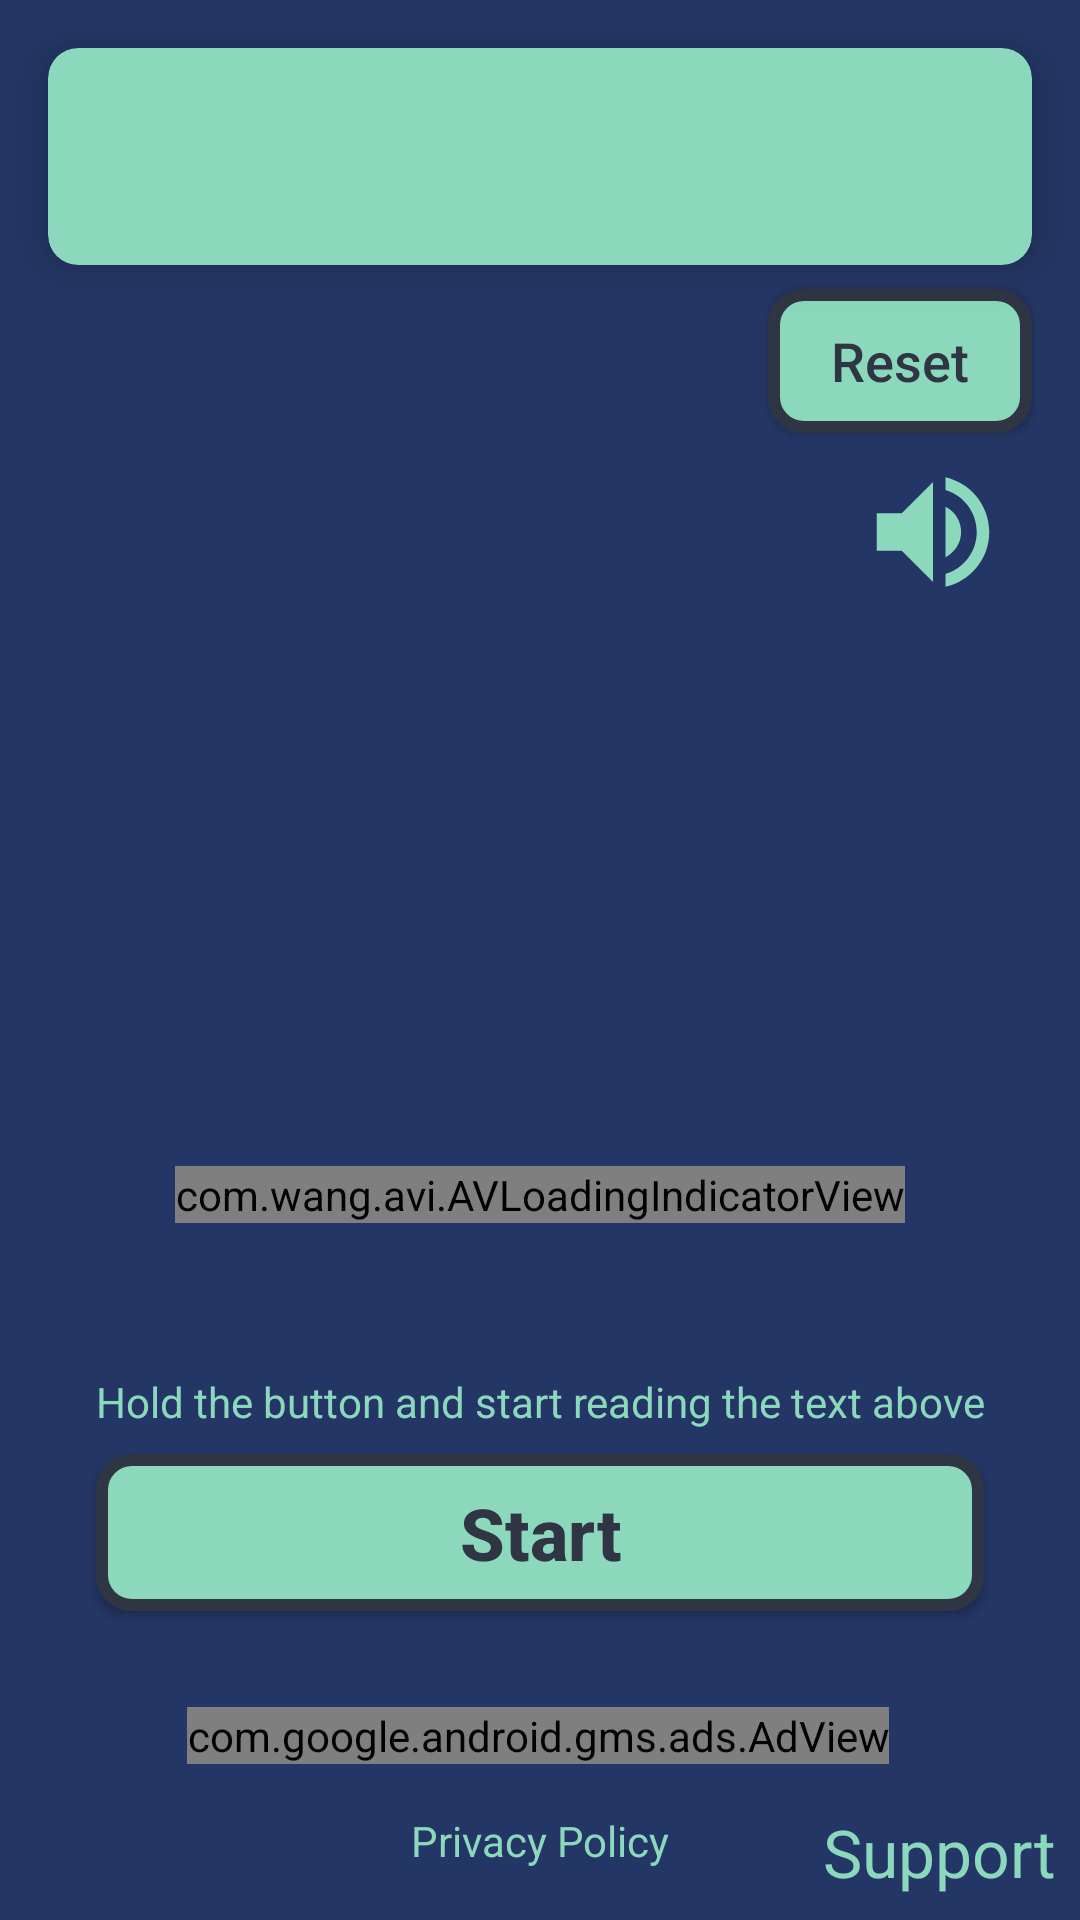

Icons on this 1080×1920 Android screen, each with the point to tap as [x,y]:
voice: [933,532]
